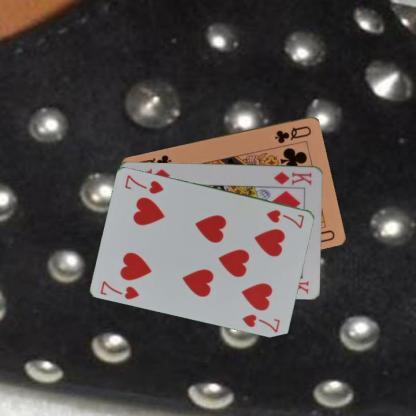7h: (264, 206, 306, 230), (98, 278, 140, 300)
Kd: (272, 168, 314, 186)
Qc: (272, 124, 313, 145)
